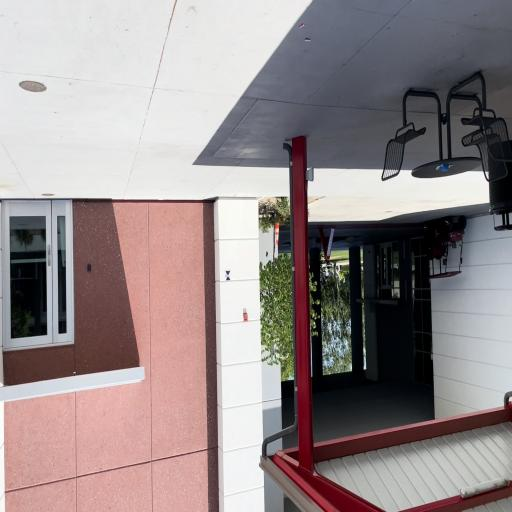target9: (225, 270, 231, 280)
